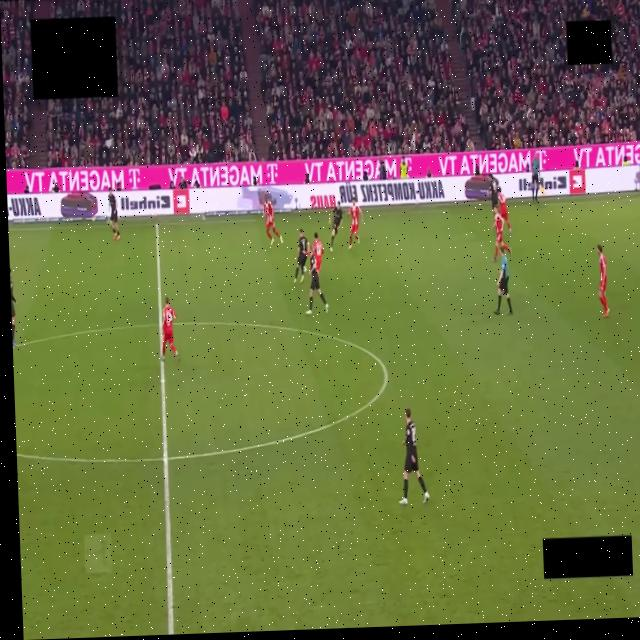ball: (302, 266, 305, 273)
player: (399, 408, 428, 505), (306, 253, 328, 315), (160, 298, 179, 361), (596, 243, 610, 318), (493, 206, 510, 261), (262, 195, 281, 244), (294, 229, 308, 283), (348, 198, 361, 249), (329, 202, 342, 251), (497, 187, 510, 232), (108, 188, 119, 240), (311, 233, 323, 271), (486, 174, 498, 210), (10, 269, 15, 347)
referee: (494, 247, 511, 315)
